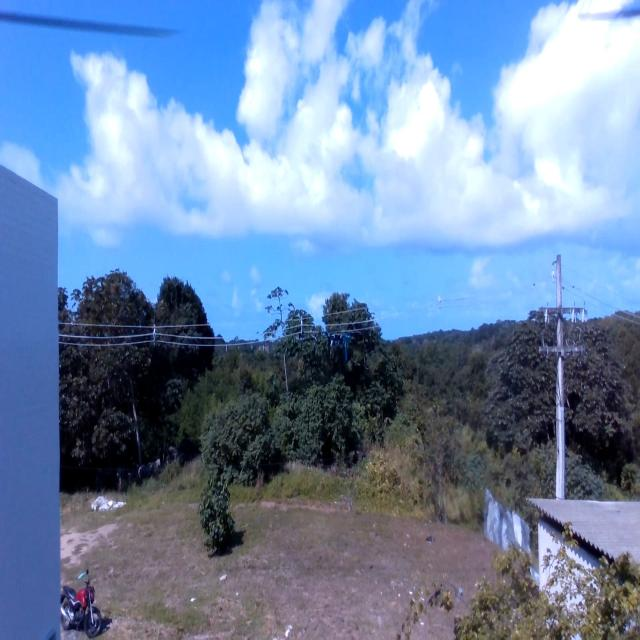-uav-: (325, 323, 357, 369)
